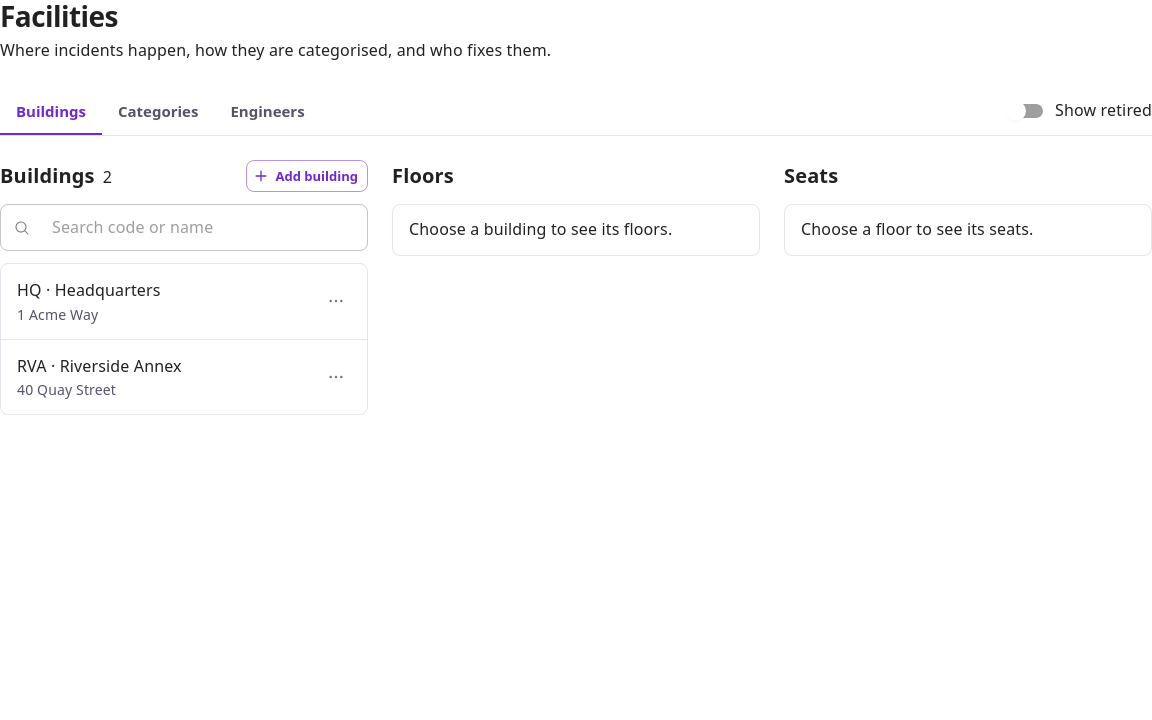
it: FacilitiesPage › edits a building without its immutable code and sends only changes
Expected: the text "HQ · Headquarters" is shown, [17,278,161,304]
Click the button named "Actions for HQ · Headquarters" at (336, 302), box [321,286,351,316]
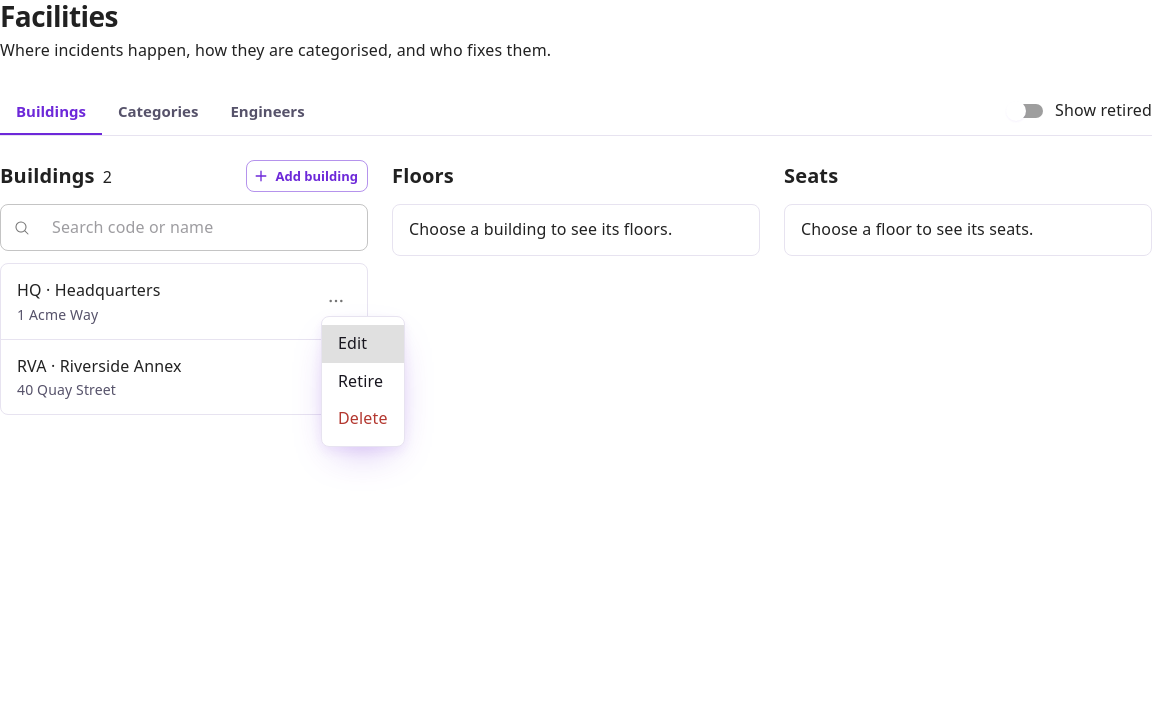
Click the menu item "Edit" at (363, 344), box [322,325,404,363]
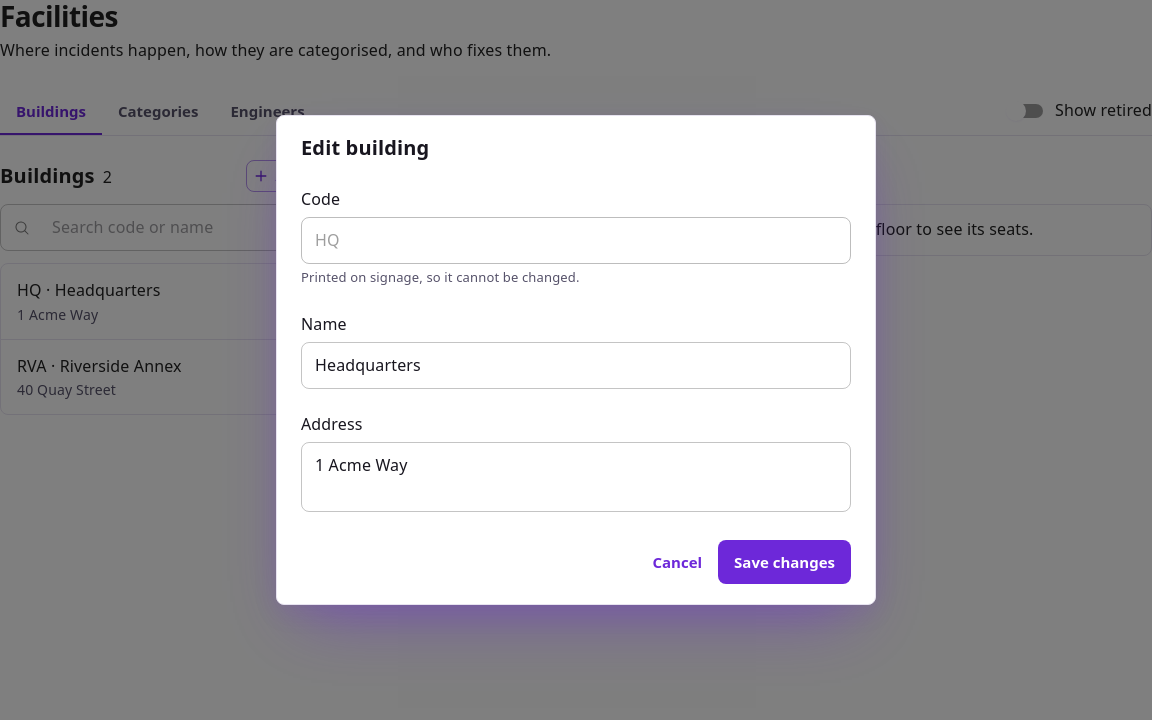
Result: the field labelled "Code" is disabled at [301,217,851,264]
Clear the text box labelled "Address" at (576, 477), box [301,442,851,512]
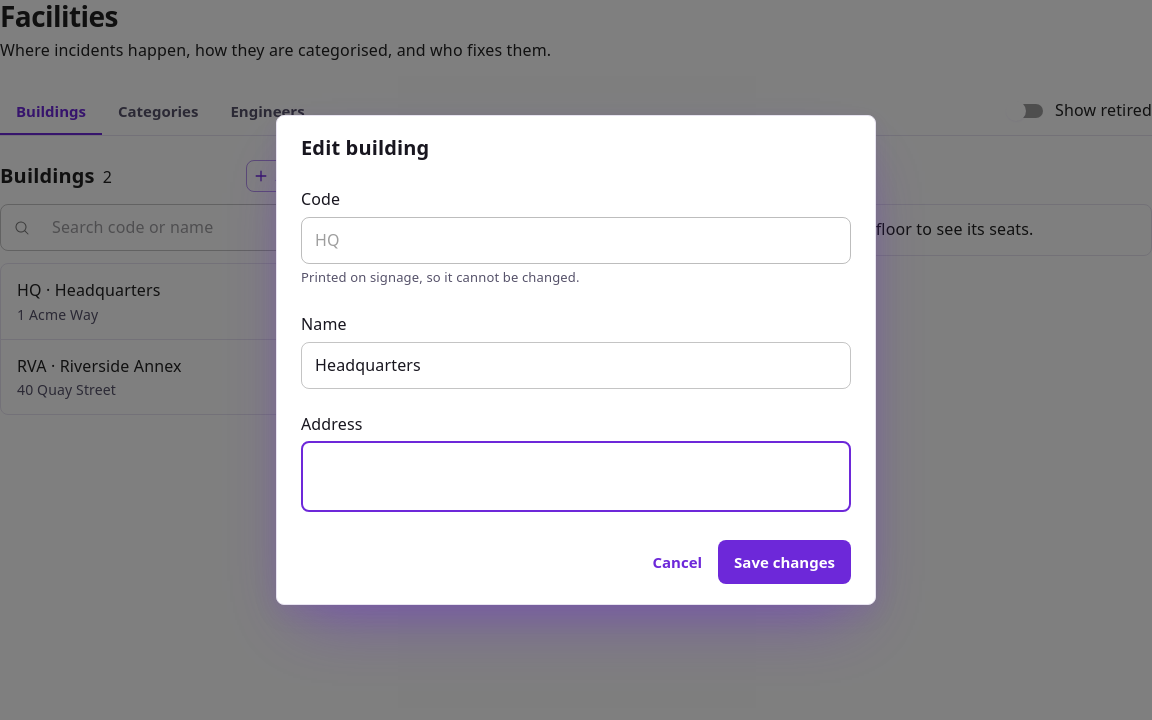
Click the button "Save changes" at (785, 562), box [718,540,851,584]
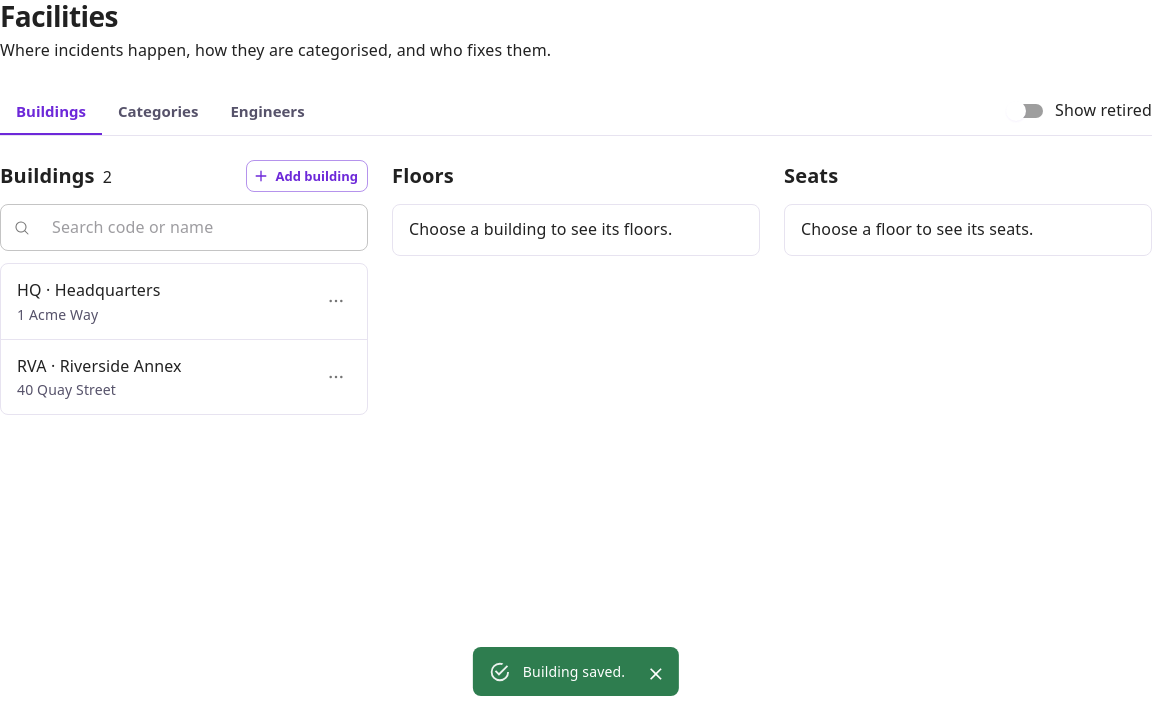
Result: the text "Building saved." is shown at [523,662,625,681]
